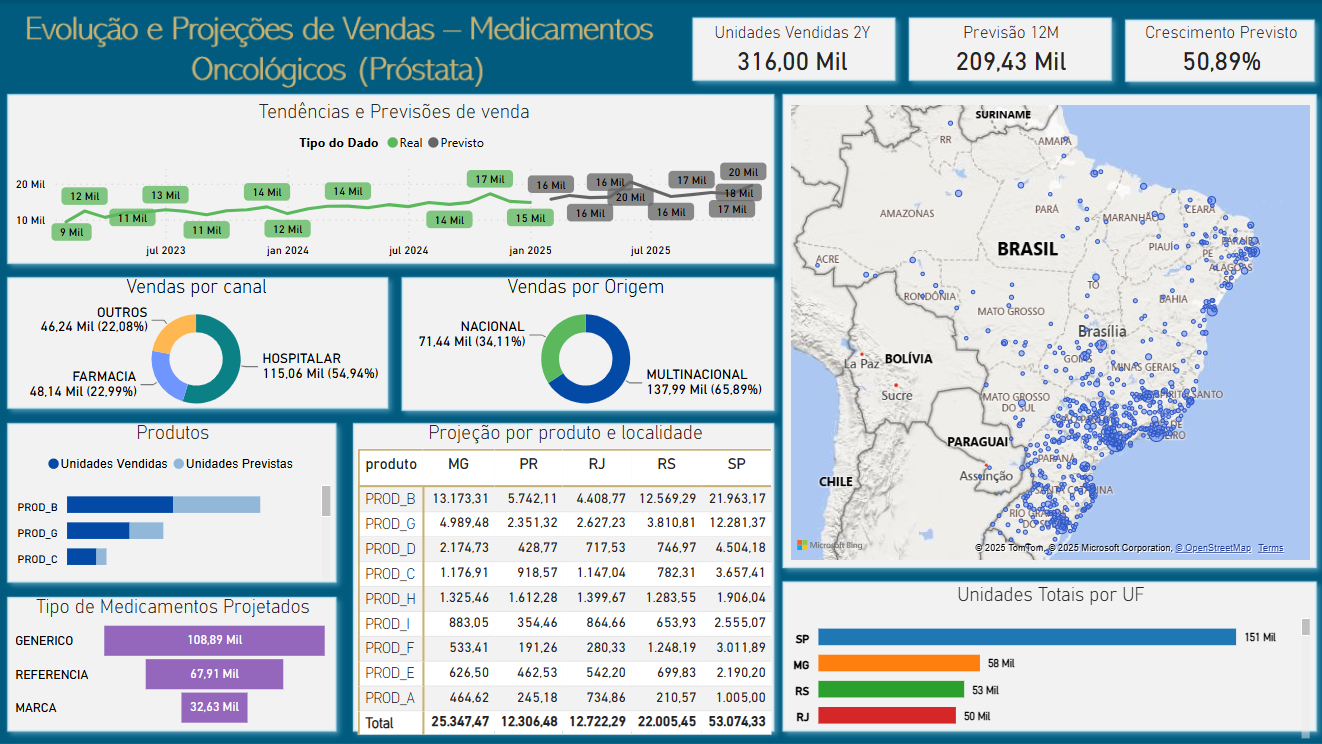

The page's visual inventory and layout, read from the dashboard file:
{"tool":"powerbi","page":{"name":"Dashboards","canvas":[1280,720],"ordinal":0},"visuals":[{"type":"lineChart","title":"Tendências e Previsões de venda","fields":{"Category":["export.dt_periodo.Variation.Hierarquia de datas.Ano","export.dt_periodo.Variation.Hierarquia de datas.Mês"],"Y":["Fato_vendas_completa.Total_Vendas_Ajustado"],"Series":["Fato_vendas_completa.Tipo_Dado"]},"box":[10.3,96.8,740.8,160],"z":0},{"type":"card","title":"Unidades Vendidas 2Y","fields":{"Values":["Sum(export.unidades)"]},"box":[668.5,20.6,194.9,56.8],"z":1000},{"type":"card","title":"Previsão 12M","fields":{"Values":["Sum(export.unidades_previstas)"]},"box":[880.2,20.6,192.3,56.8],"z":2000},{"type":"card","title":"Crescimento Previsto","fields":{"Values":["Medidas.CrescimentoPrevisto12M"]},"box":[1089.3,20.6,180.7,56.8],"z":3000},{"type":"map","title":"Unidades por Cidade","fields":{"Category":["Fato_vendas_completa.dc_cidade"],"Size":["Fato_vendas_completa.Total_Vendas_Ajustado"]},"box":[760.2,96.8,509.8,449.1],"z":4000},{"type":"clusteredBarChart","title":"Unidades Totais por UF","fields":{"Category":["Fato_vendas_completa.sg_uf"],"Y":["Fato_vendas_completa.Total_Vendas_Ajustado"]},"box":[759.8,562,510.2,155.6],"z":5000},{"type":"donutChart","title":"Vendas por canal","fields":{"Category":["Fato_vendas_completa.canal"],"Y":["Sum(Fato_vendas_completa.unidades_previstas)"]},"box":[0,265.9,380.7,140.7],"z":6000},{"type":"barChart","title":"Produtos","fields":{"Y":["Sum(Fato_vendas_completa.unidades)","Sum(Fato_vendas_completa.unidades_previstas)"],"Category":["Fato_vendas_completa.produto"]},"box":[10.9,406.4,313.6,158],"z":7000},{"type":"pivotTable","title":"Projeção por produto e localidade","fields":{"Values":["Sum(Fato_vendas_completa.unidades_previstas)"],"Rows":["Fato_vendas_completa.produto"],"Columns":["Fato_vendas_completa.sg_uf"]},"box":[340.7,406.5,410.4,313.6],"z":8000},{"type":"donutChart","title":"Vendas por Origem","fields":{"Category":["Fato_vendas_completa.dc_nacional_multinacional"],"Y":["Sum(Fato_vendas_completa.unidades_previstas)"]},"box":[380.7,265.9,370.4,140.7],"z":9000},{"type":"funnel","title":"Tipo de Medicamentos Projetados","fields":{"Category":["Fato_vendas_completa.dc_grms"],"Y":["Sum(Fato_vendas_completa.unidades_previstas)"]},"box":[10.3,574.3,313.6,131.6],"z":9001}]}

Visuals, with their boxes in screenshot pixels (x1, y1, x2, y2), scaled from the page's 1280x720 canvas onto the 1322x744 screenshot:
"Tendências e Previsões de venda" lineChart: 11, 100, 776, 265
"Unidades Vendidas 2Y" card: 690, 21, 892, 80
"Previsão 12M" card: 909, 21, 1108, 80
"Crescimento Previsto" card: 1125, 21, 1312, 80
"Unidades por Cidade" map: 785, 100, 1312, 564
"Unidades Totais por UF" clusteredBarChart: 785, 581, 1312, 742
"Vendas por canal" donutChart: 0, 275, 393, 420
"Produtos" barChart: 11, 420, 335, 583
"Projeção por produto e localidade" pivotTable: 352, 420, 776, 743
"Vendas por Origem" donutChart: 393, 275, 776, 420
"Tipo de Medicamentos Projetados" funnel: 11, 593, 335, 729
